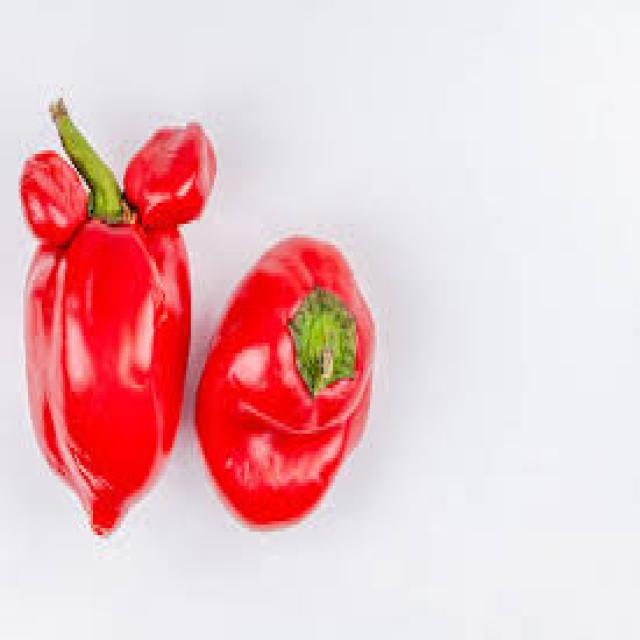bell_pepper: (10, 75, 223, 558), (198, 219, 390, 551)
